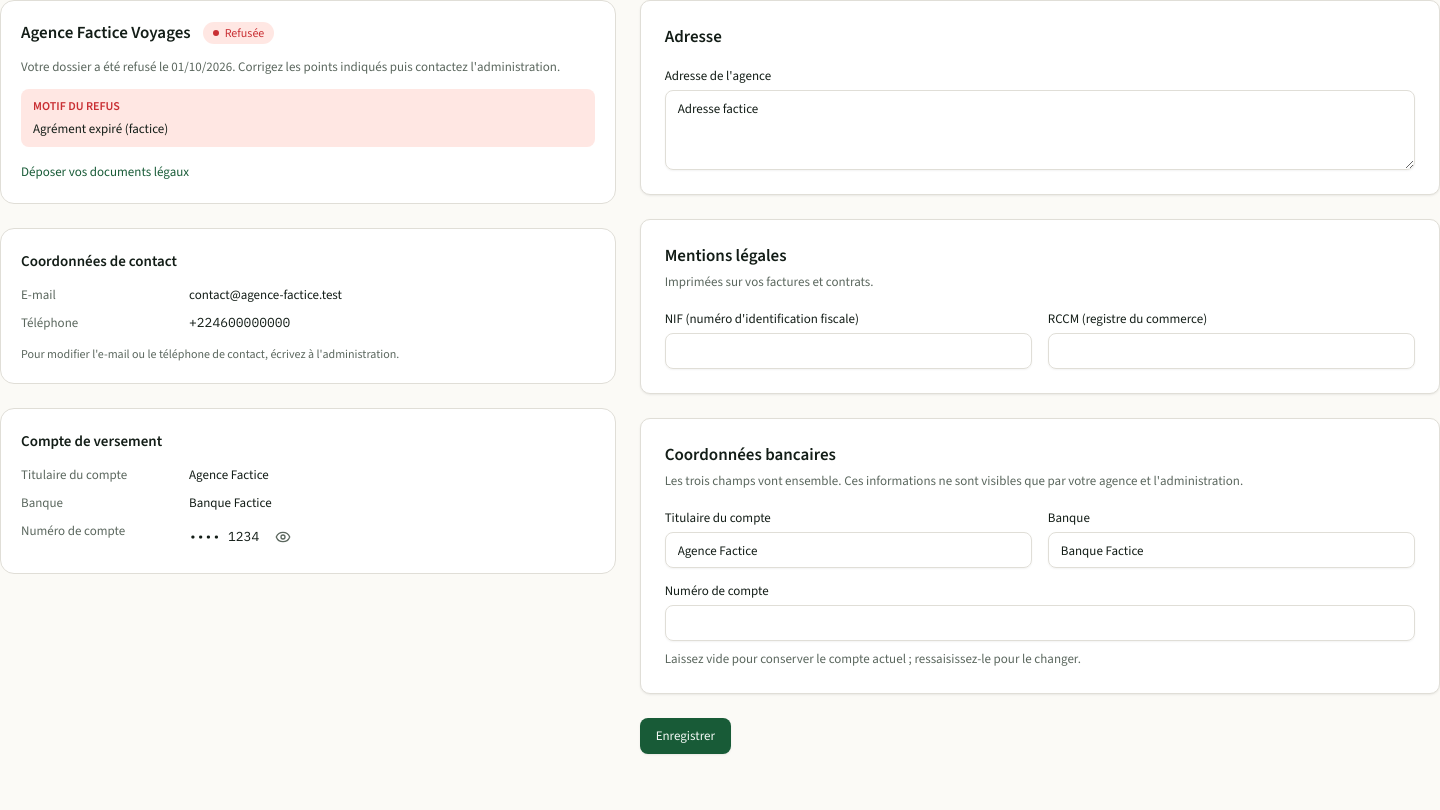
Test case: MyAgencyScreen (ticket #47) › affiche le motif de refus et masque le numéro de compte par défaut
The width and height of the screenshot is (1440, 810).
Expected: the text "Agrément expiré (factice)" is shown, [33, 120, 168, 137]
Expected: the text "•••• 1234" is shown, [189, 527, 259, 547]
Click the button named "Afficher le numéro de compte" at coordinates (283, 537), box [267, 521, 299, 553]
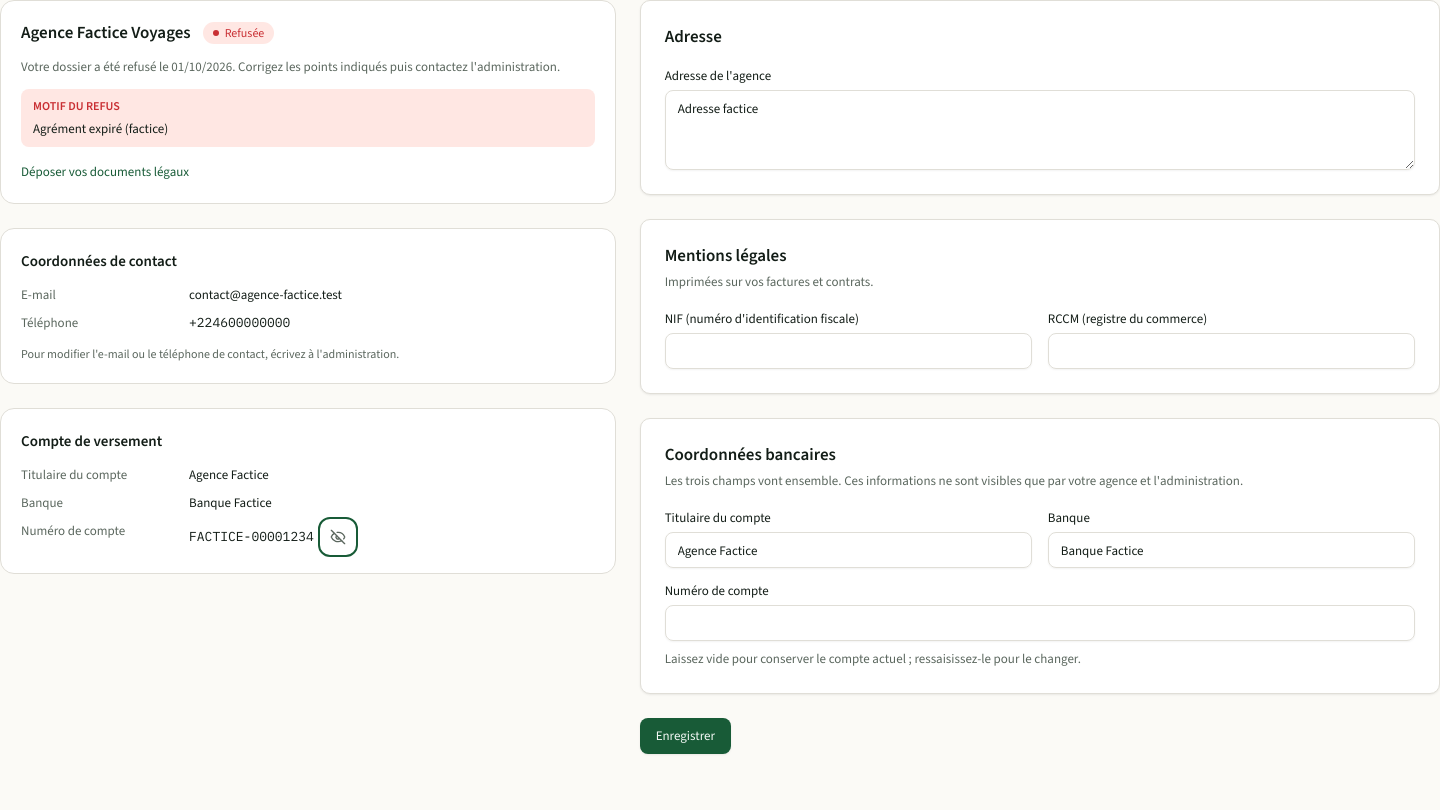
Result: the text "FACTICE-00001234" is shown at [189, 527, 314, 547]
